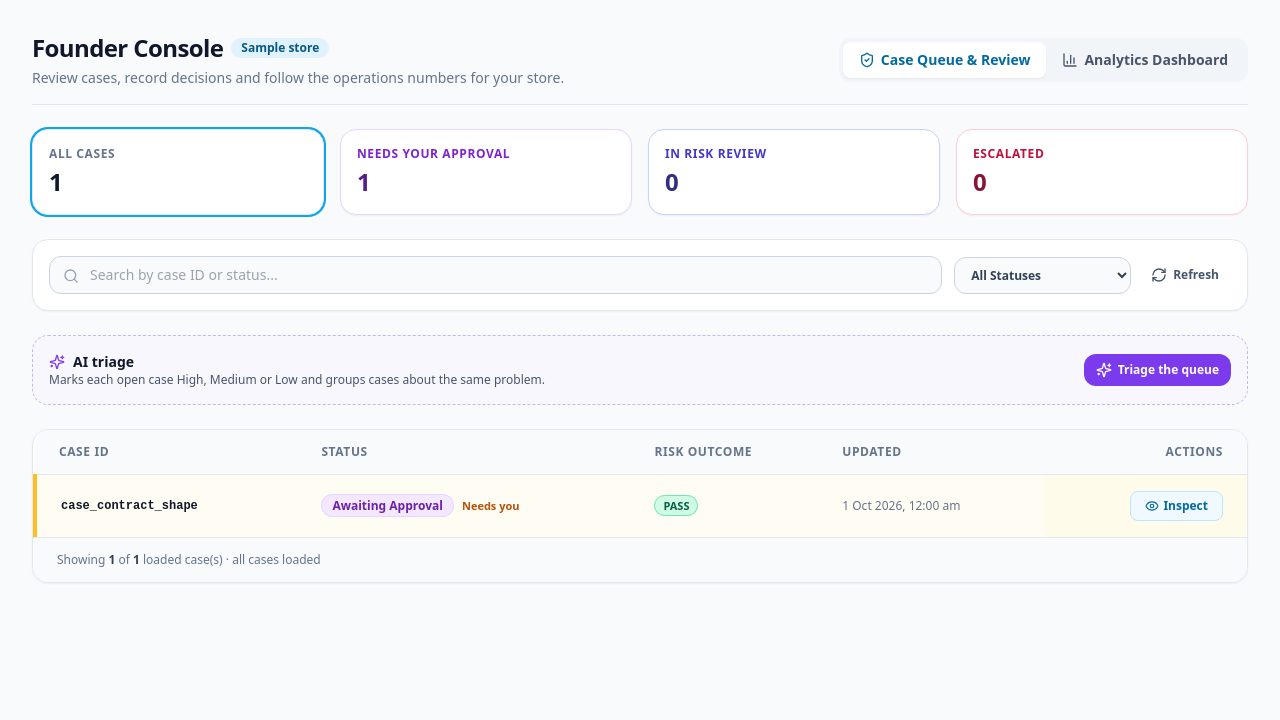
FounderConsole failure and live-mode paths › renders a contract-shaped order, proposal and review without crashing or showing NaN
Click the button "Inspect" at x=1177, y=506, box x1=1130 y1=491 x2=1223 y2=521
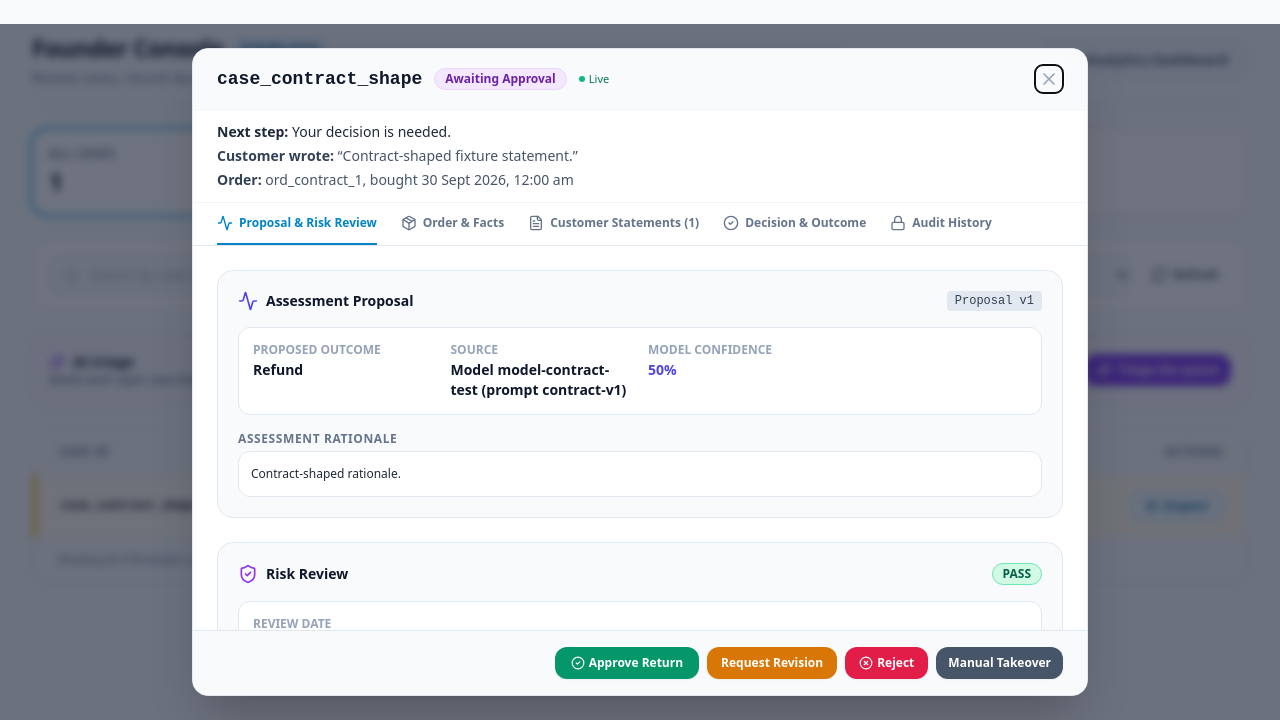
Now the text "50%" is shown, box x1=648 y1=360 x2=677 y2=379
Now the text "Model model-contract-test (prompt contract-v1)" is shown, box x1=450 y1=360 x2=632 y2=400
# Order uses line_items / unit_price_minor and computes the total.
Click the tab "Order & Facts" at x=452, y=224, box x1=401 y1=203 x2=504 y2=245
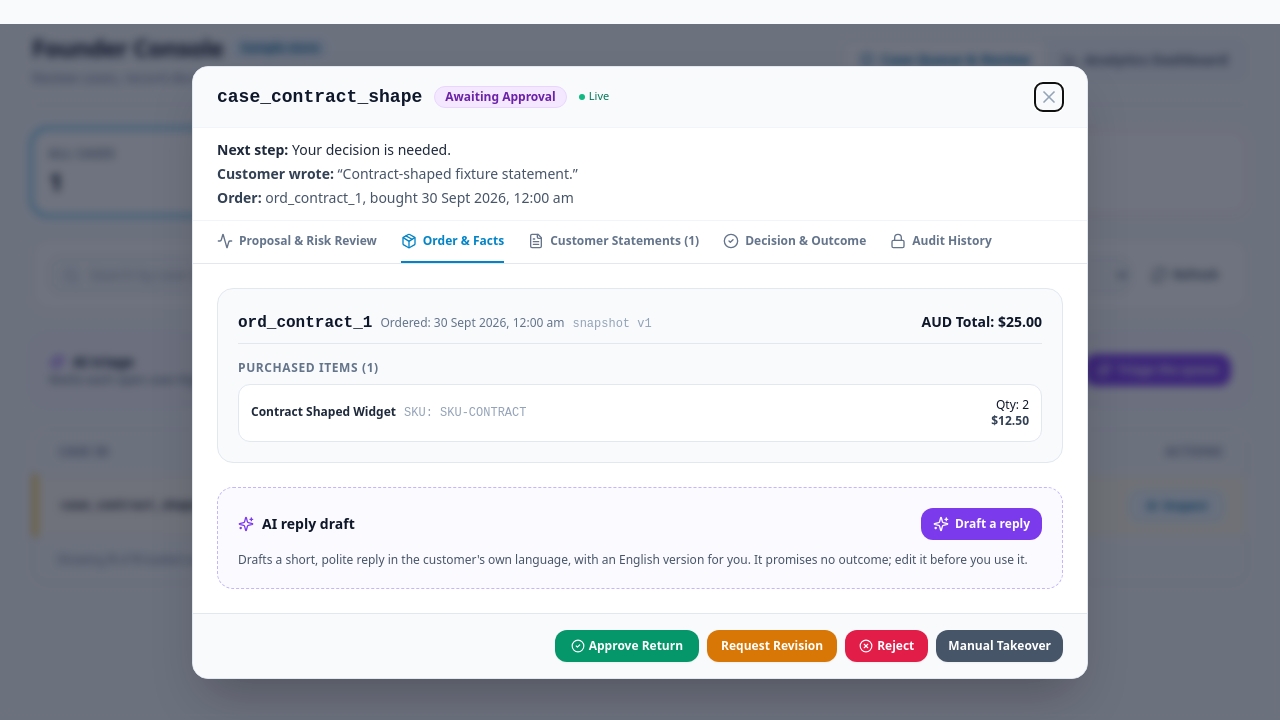
Now the text "ord_contract_1" is shown, box x1=238 y1=314 x2=372 y2=332
Now the text "Contract Shaped Widget" is shown, box x1=251 y1=403 x2=396 y2=420
Now the text "AUD Total: $25.00" is shown, box x1=922 y1=312 x2=1042 y2=332
